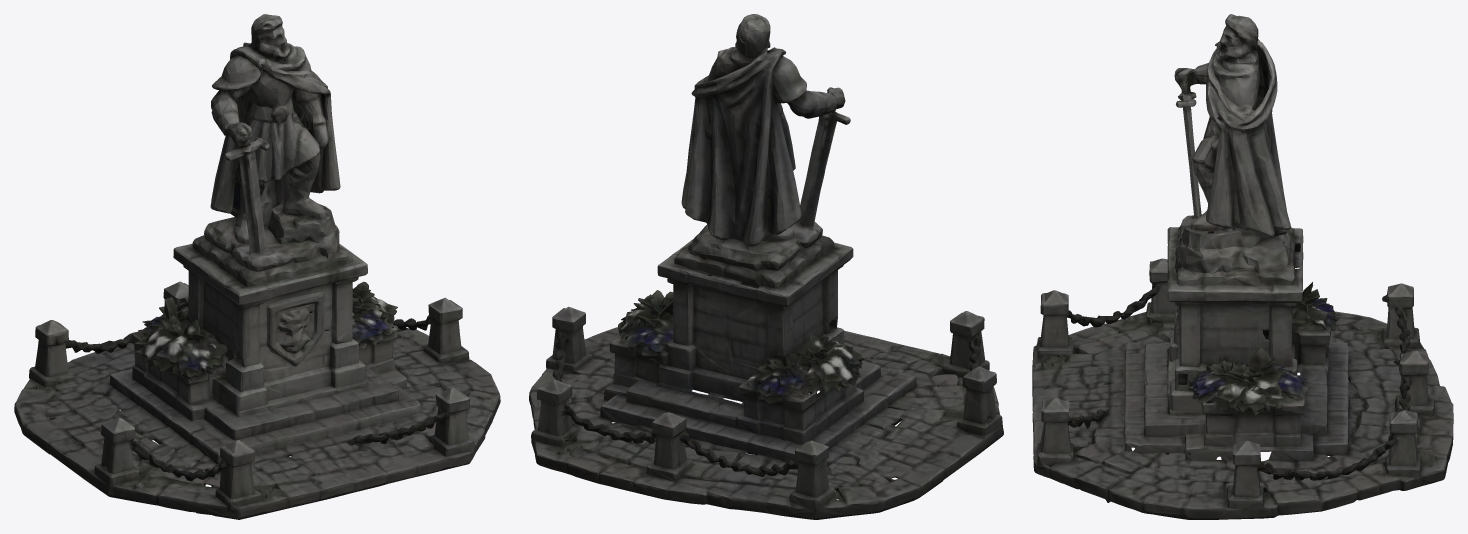
The model's file is war_statue_01.glb.
3 views of the same model, side by side, from view 1: azimuth 30°, elevation 25°; view 2: azimuth 150°, elevation 25°; view 3: azimuth 270°, elevation 25° (orthographic).
Parts seen in each view (by area): view 1: geometry_0; view 2: geometry_0; view 3: geometry_0.
Part boxes in pixels (x1,y1,x2,y2): geometry_0: [14, 14, 500, 519]; geometry_0: [529, 14, 1003, 519]; geometry_0: [1032, 14, 1453, 519].
Size of the model in its own units: 0.9997 by 0.9489 by 0.8882.
1 material, 1 textured.
